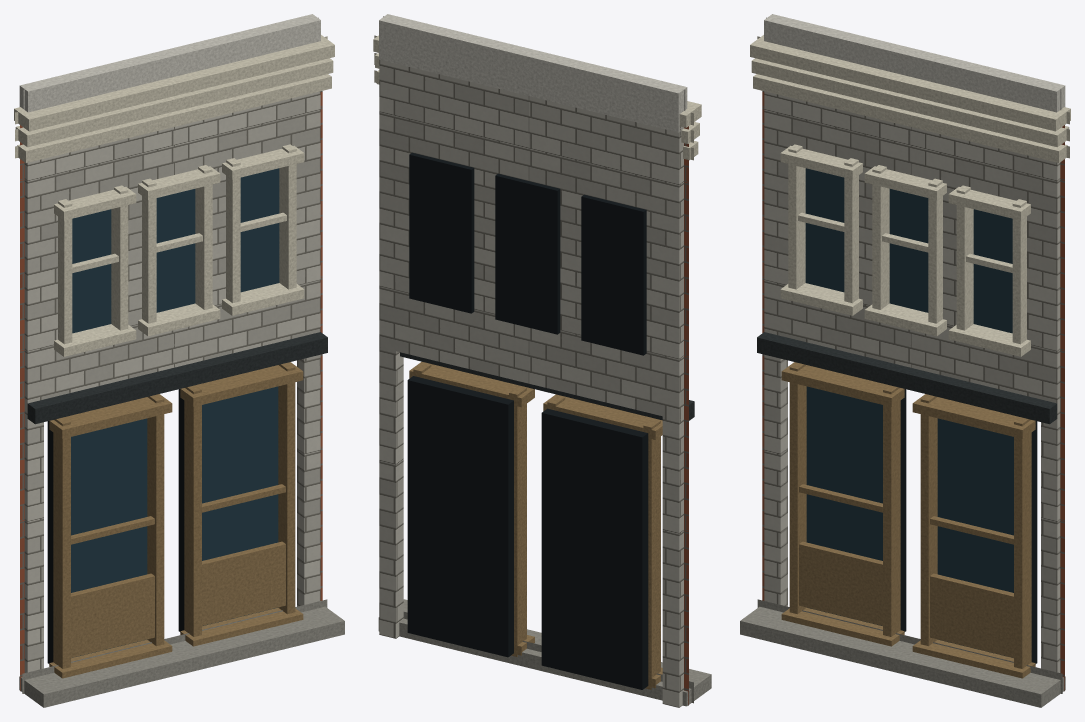
File: CLSTGA13_lod2.glb
The picture shows the model from 3 angles, left to right: view 1: azimuth 30°, elevation 25°; view 2: azimuth 150°, elevation 25°; view 3: azimuth 330°, elevation 25°; orthographic projection. The views are drawn at different scales.
Visible parts, largest first — view 1: CLSTGA13_FRONT_LOD2; view 2: CLSTGA13_FRONT_LOD2; view 3: CLSTGA13_FRONT_LOD2.
Boxes of the visible parts, box(x1,y1,x2,y2) form: CLSTGA13_FRONT_LOD2: box(14, 14, 344, 707); CLSTGA13_FRONT_LOD2: box(373, 14, 711, 707); CLSTGA13_FRONT_LOD2: box(740, 14, 1070, 707).
Bounding box in the file's own units: 3.84 × 7.05 × 0.68.
Materials: 10 (8 with a texture image).
